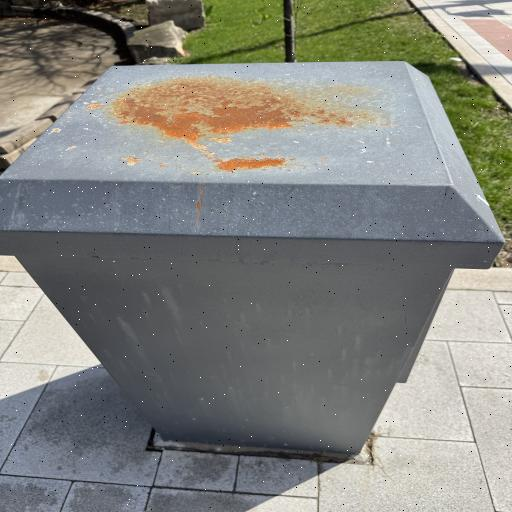Electrical Box: (0, 64, 503, 455)
